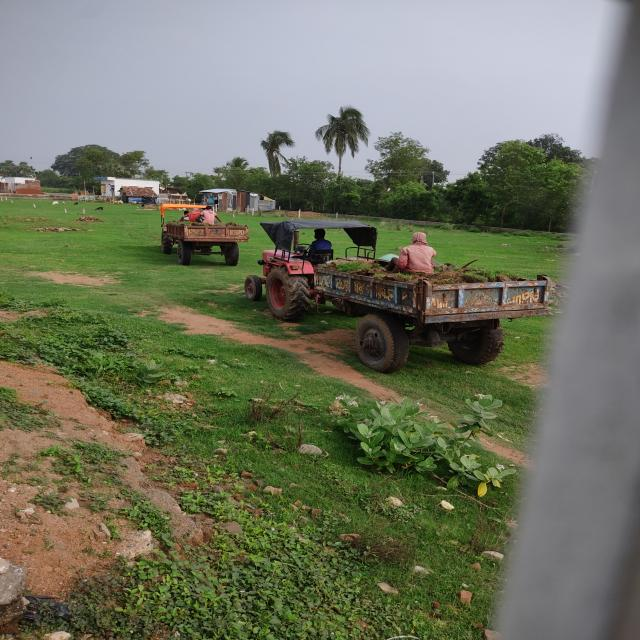Tractor: (255, 216, 552, 368)
